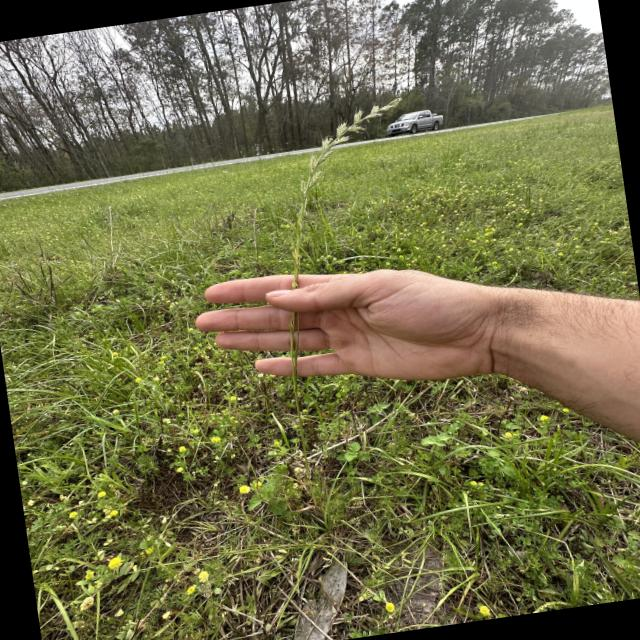Lolium: (271, 100, 423, 272)
